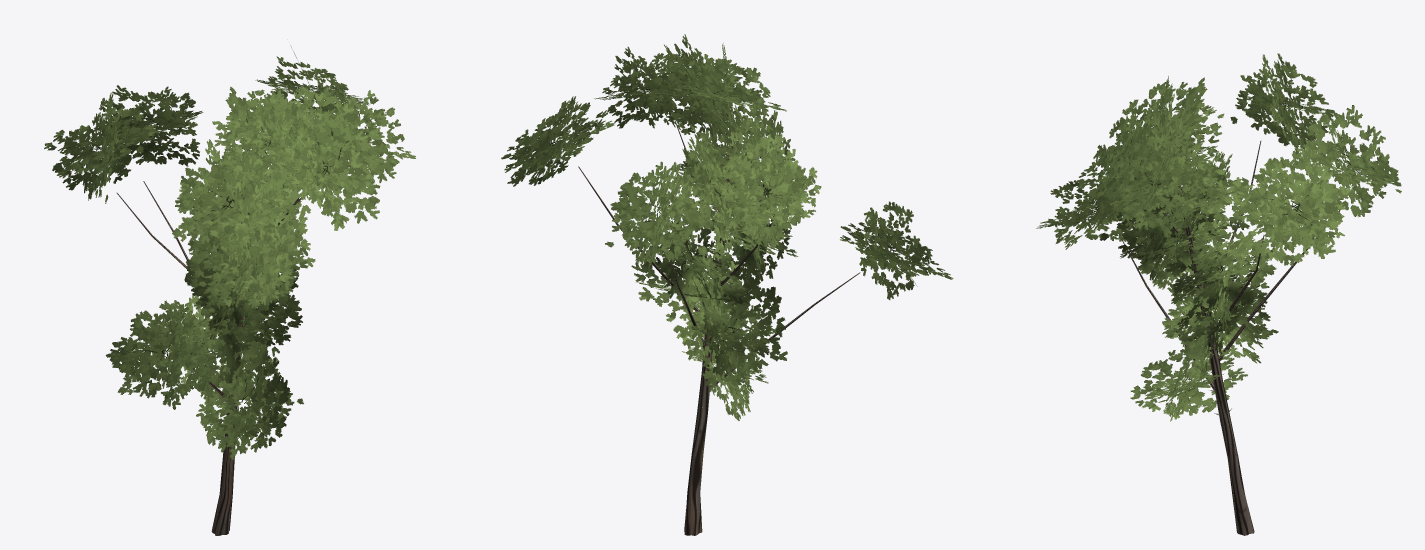
File: sapling-c.lod0.glb
The picture shows the model from 3 angles, left to right: view 1: azimuth 30°, elevation 25°; view 2: azimuth 150°, elevation 25°; view 3: azimuth 270°, elevation 25°; orthographic projection. The views are drawn at different scales.
Parts seen in each view (by area): view 1: foliage, bark; view 2: foliage, bark; view 3: foliage, bark.
Part boxes in pixels (x1,y1,x2,y2): foliage: [44, 45, 415, 459]; bark: [116, 176, 301, 535]; foliage: [501, 34, 953, 420]; bark: [578, 121, 860, 535]; foliage: [1036, 53, 1401, 421]; bark: [1121, 141, 1340, 535].
Bounding box in the file's own units: 1.08 × 1.3 × 0.9816.
3 materials, 2 textured.
